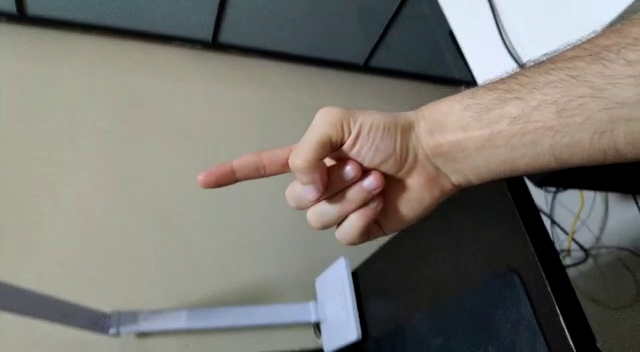One: (169, 125, 462, 213)
